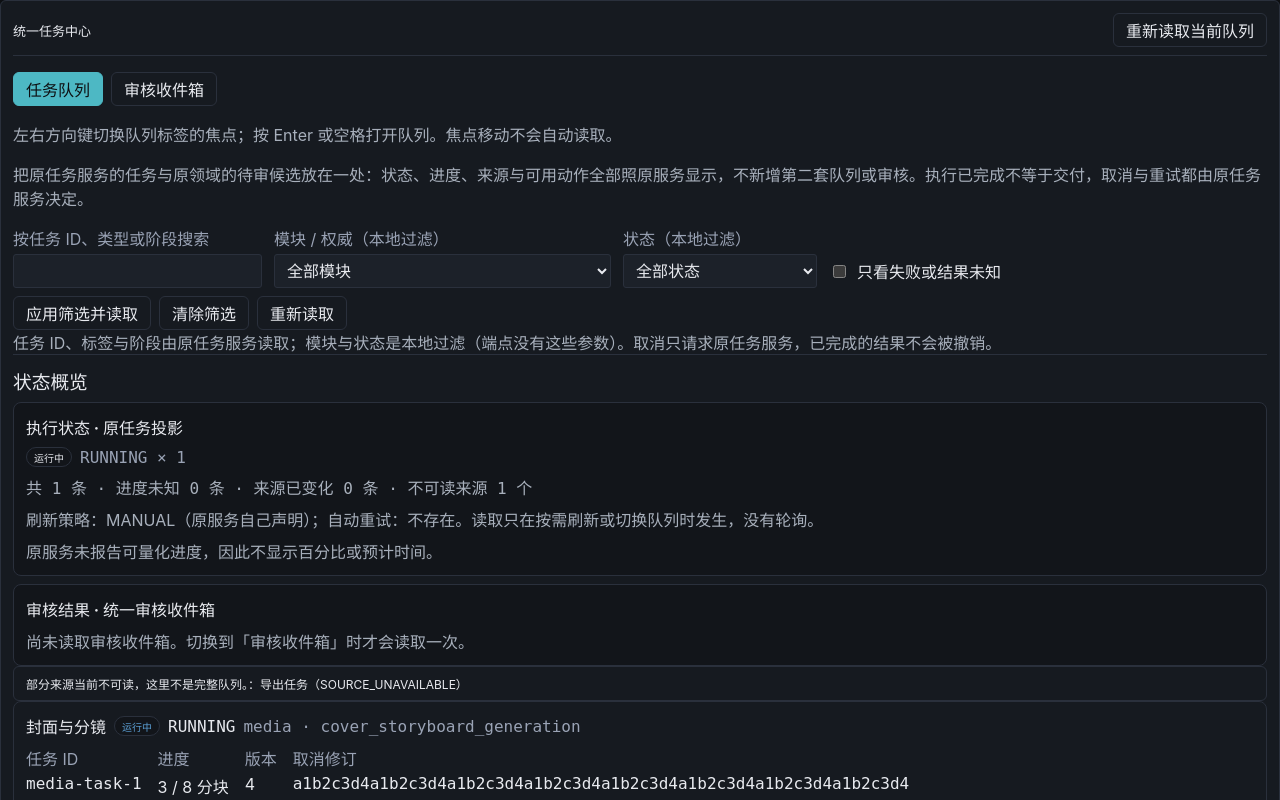
Test: task center view › review inbox read failure shows human text and keeps the code only in data-error-code
Click the tab "审核收件箱".
click(164, 89)  # box [111,72,217,106]
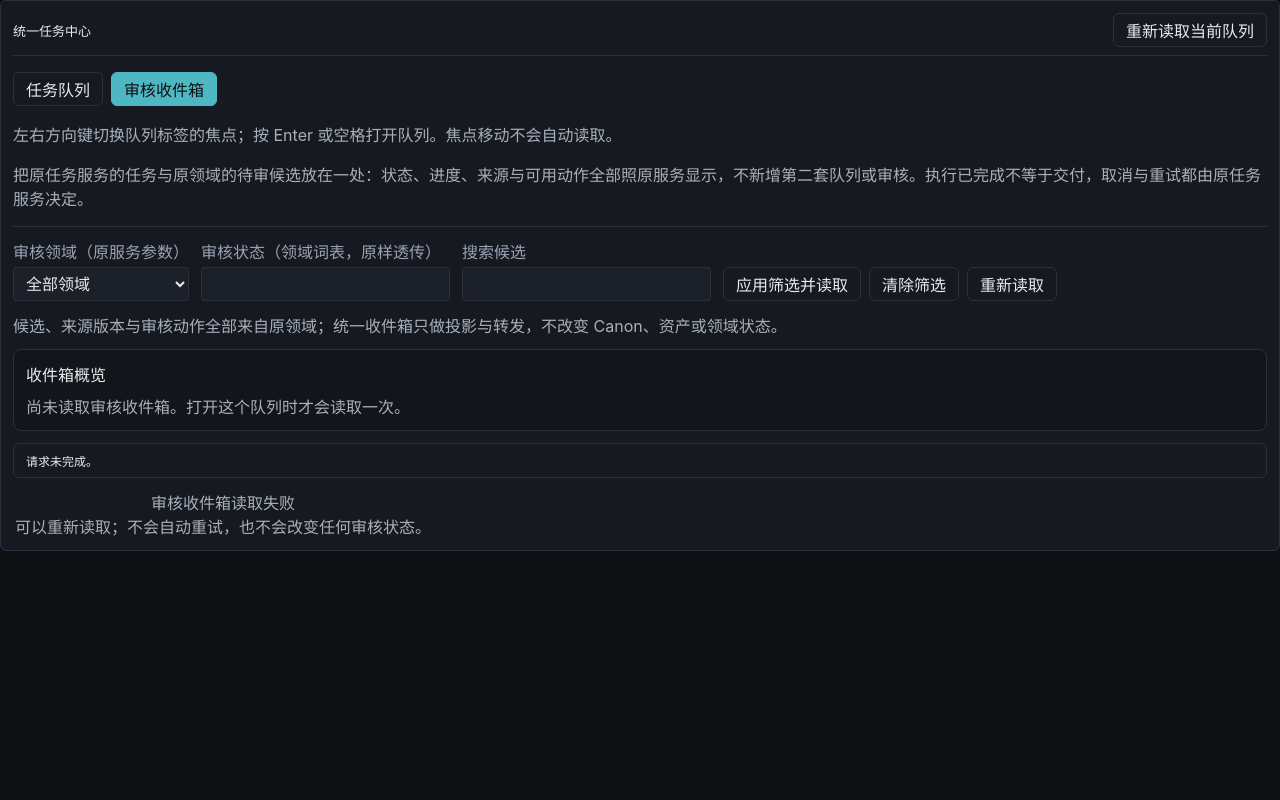
Expected: the text "请求未完成。" is shown, [26,454,98,469]
